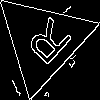R: (18, 16, 75, 74)
